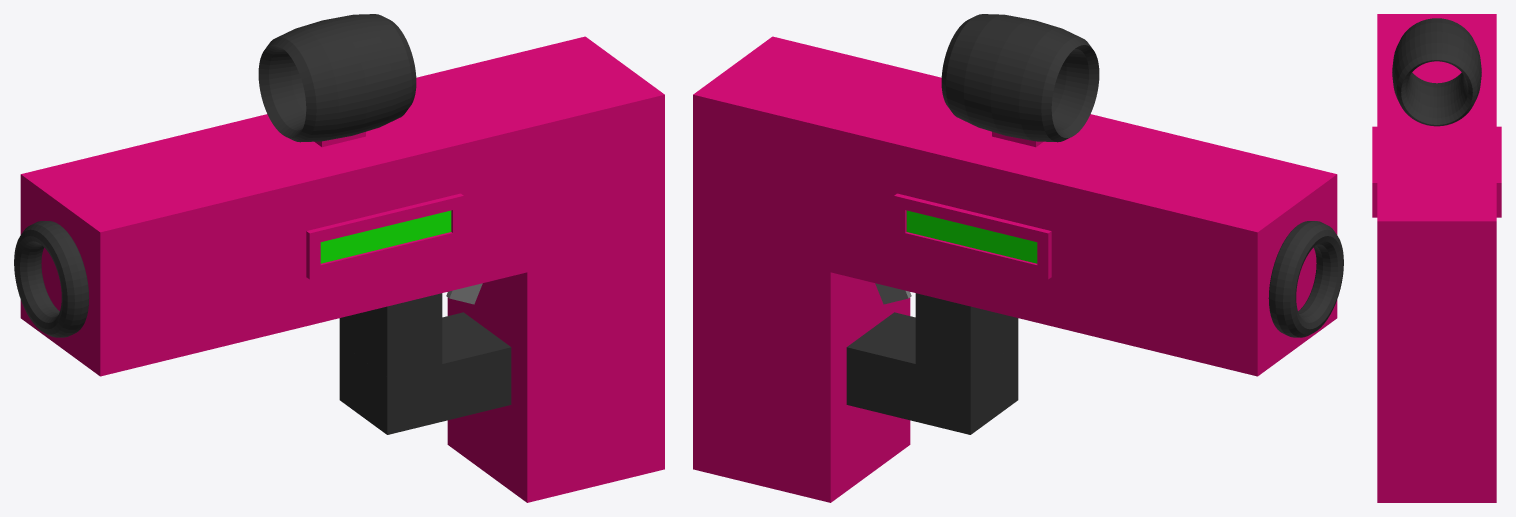
The model's file is BallGunV3.glb.
The picture shows the model from 3 angles, left to right: view 1: azimuth 30°, elevation 25°; view 2: azimuth 150°, elevation 25°; view 3: azimuth 270°, elevation 25°; orthographic projection. The views are drawn at different scales.
Parts seen in each view (by area): view 1: Cube.012, Cube.003, Mire, ForwardPart, CadrantLife, LifeTime; view 2: Cube.012, Cube.003, Mire, ForwardPart, CadrantLife, LifeTime; view 3: Cube.012, Mire, CadrantLife.
Boxes of the visible parts, x1=… form: Cube.012: x1=20, y1=36, x2=664, y2=502; Cube.003: x1=339, y1=293, x2=511, y2=434; Mire: x1=258, y1=14, x2=416, y2=142; ForwardPart: x1=14, y1=221, x2=89, y2=337; CadrantLife: x1=306, y1=193, x2=463, y2=279; LifeTime: x1=320, y1=210, x2=451, y2=263; Cube.012: x1=693, y1=36, x2=1337, y2=502; Cube.003: x1=846, y1=293, x2=1018, y2=434; Mire: x1=941, y1=14, x2=1099, y2=142; ForwardPart: x1=1268, y1=221, x2=1343, y2=337; CadrantLife: x1=894, y1=193, x2=1051, y2=279; LifeTime: x1=906, y1=210, x2=1037, y2=263; Cube.012: x1=1377, y1=14, x2=1496, y2=502; Mire: x1=1392, y1=18, x2=1481, y2=126; CadrantLife: x1=1372, y1=126, x2=1501, y2=217.
Size of the model in its own units: 2.13 by 1.69 by 0.54.
